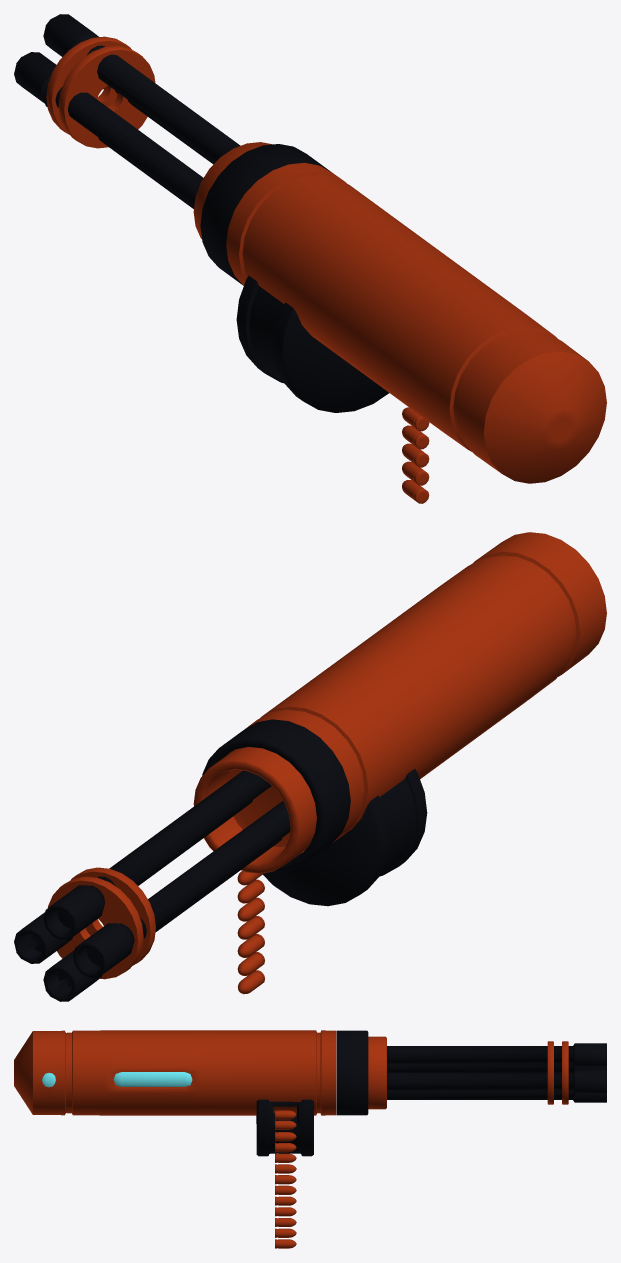
File: MachineGunA01.fbx
3 views of the same model, one above another, from view 1: azimuth 30°, elevation 25°; view 2: azimuth 150°, elevation 25°; view 3: azimuth 270°, elevation 25° (orthographic). The views are drawn at different scales.
Visible parts, largest first — view 1: Cylinder009, Cylinder014, Cylinder016, Cylinder012, Cylinder032, Bulets, Cylinder033; view 2: Cylinder009, Cylinder014, Cylinder016, Cylinder033, Cylinder032, Cylinder012, Bulets; view 3: Cylinder009, Cylinder014, Cylinder032, Bulets, Cylinder016, Cylinder033, MachineGun01, Cylinder012.
Boxes of the visible parts, left/top/right/bottom form: Cylinder009: left=226, top=162, right=606, bottom=483; Cylinder014: left=14, top=14, right=240, bottom=208; Cylinder016: left=236, top=275, right=388, bottom=412; Cylinder012: left=46, top=36, right=155, bottom=148; Cylinder032: left=200, top=144, right=330, bottom=285; Bulets: left=402, top=407, right=429, bottom=503; Cylinder033: left=193, top=142, right=297, bottom=259; Cylinder009: left=229, top=532, right=606, bottom=852; Cylinder014: left=14, top=770, right=290, bottom=1001; Cylinder016: left=262, top=738, right=427, bottom=906; Cylinder033: left=193, top=747, right=316, bottom=873; Cylinder032: left=202, top=719, right=350, bottom=871; Cylinder012: left=48, top=867, right=155, bottom=979; Bulets: left=237, top=871, right=264, bottom=994; Cylinder009: left=14, top=1030, right=336, bottom=1115; Cylinder014: left=387, top=1043, right=606, bottom=1102; Cylinder032: left=336, top=1030, right=368, bottom=1115; Bulets: left=275, top=1110, right=296, bottom=1248; Cylinder016: left=256, top=1099, right=313, bottom=1156; Cylinder033: left=368, top=1036, right=386, bottom=1109; MachineGun01: left=113, top=1072, right=192, bottom=1086; Cylinder012: left=547, top=1041, right=568, bottom=1104.
Size of the model in its own units: 55.14 by 105 by 296.
